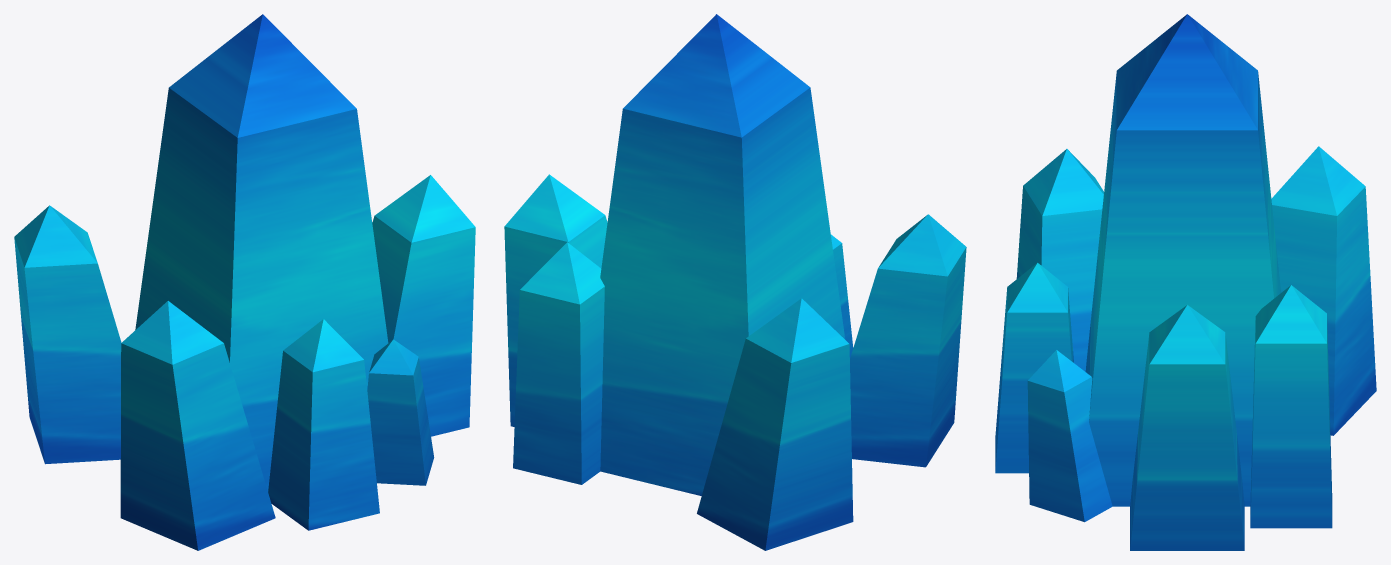
The model's file is Crystal2.obj.
3 renders of one model, left to right at view 1: azimuth 30°, elevation 25°; view 2: azimuth 150°, elevation 25°; view 3: azimuth 270°, elevation 25°, orthographic. The views are drawn at different scales.
Parts seen in each view (by area): view 1: obj1; view 2: obj1; view 3: obj1.
Part boxes in pixels (left/top/right/bottom): obj1: left=14, top=14, right=475, bottom=550; obj1: left=504, top=14, right=966, bottom=550; obj1: left=995, top=14, right=1376, bottom=550.
Size of the model in its own units: 6.39 by 6.99 by 5.4.
Materials: 1 (1 with a texture image).
